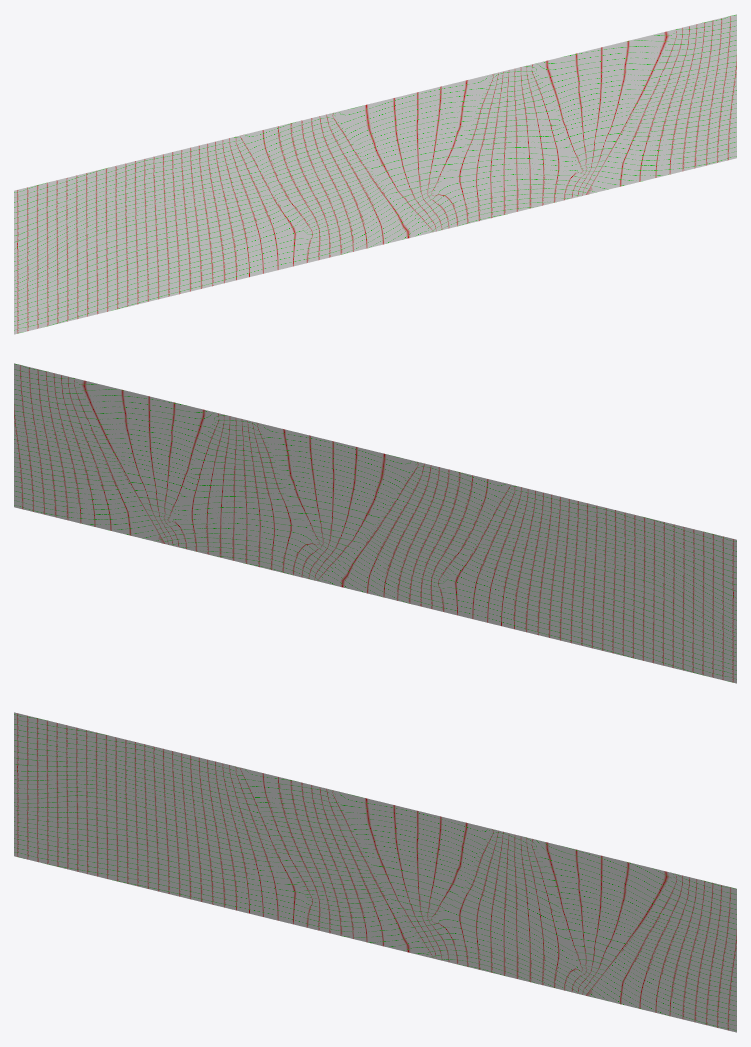
Rendered from remesh.obj.
The picture shows the model from 3 angles, top to bottom: view 1: azimuth 30°, elevation 25°; view 2: azimuth 150°, elevation 25°; view 3: azimuth 330°, elevation 25°; orthographic projection.
Visible parts, largest first — view 1: remesh; view 2: remesh; view 3: remesh.
Boxes of the visible parts, left/top/right/bottom form: remesh: left=14, top=14, right=736, bottom=334; remesh: left=14, top=363, right=736, bottom=683; remesh: left=14, top=712, right=736, bottom=1032.
Bounding box in the file's own units: 1 × 0.1903 × 0.
1 material, 1 textured.
